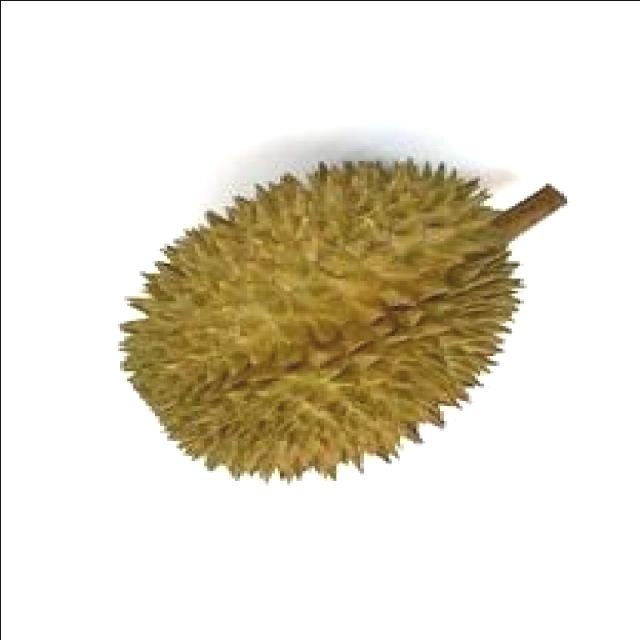agrume: (98, 135, 520, 510)
